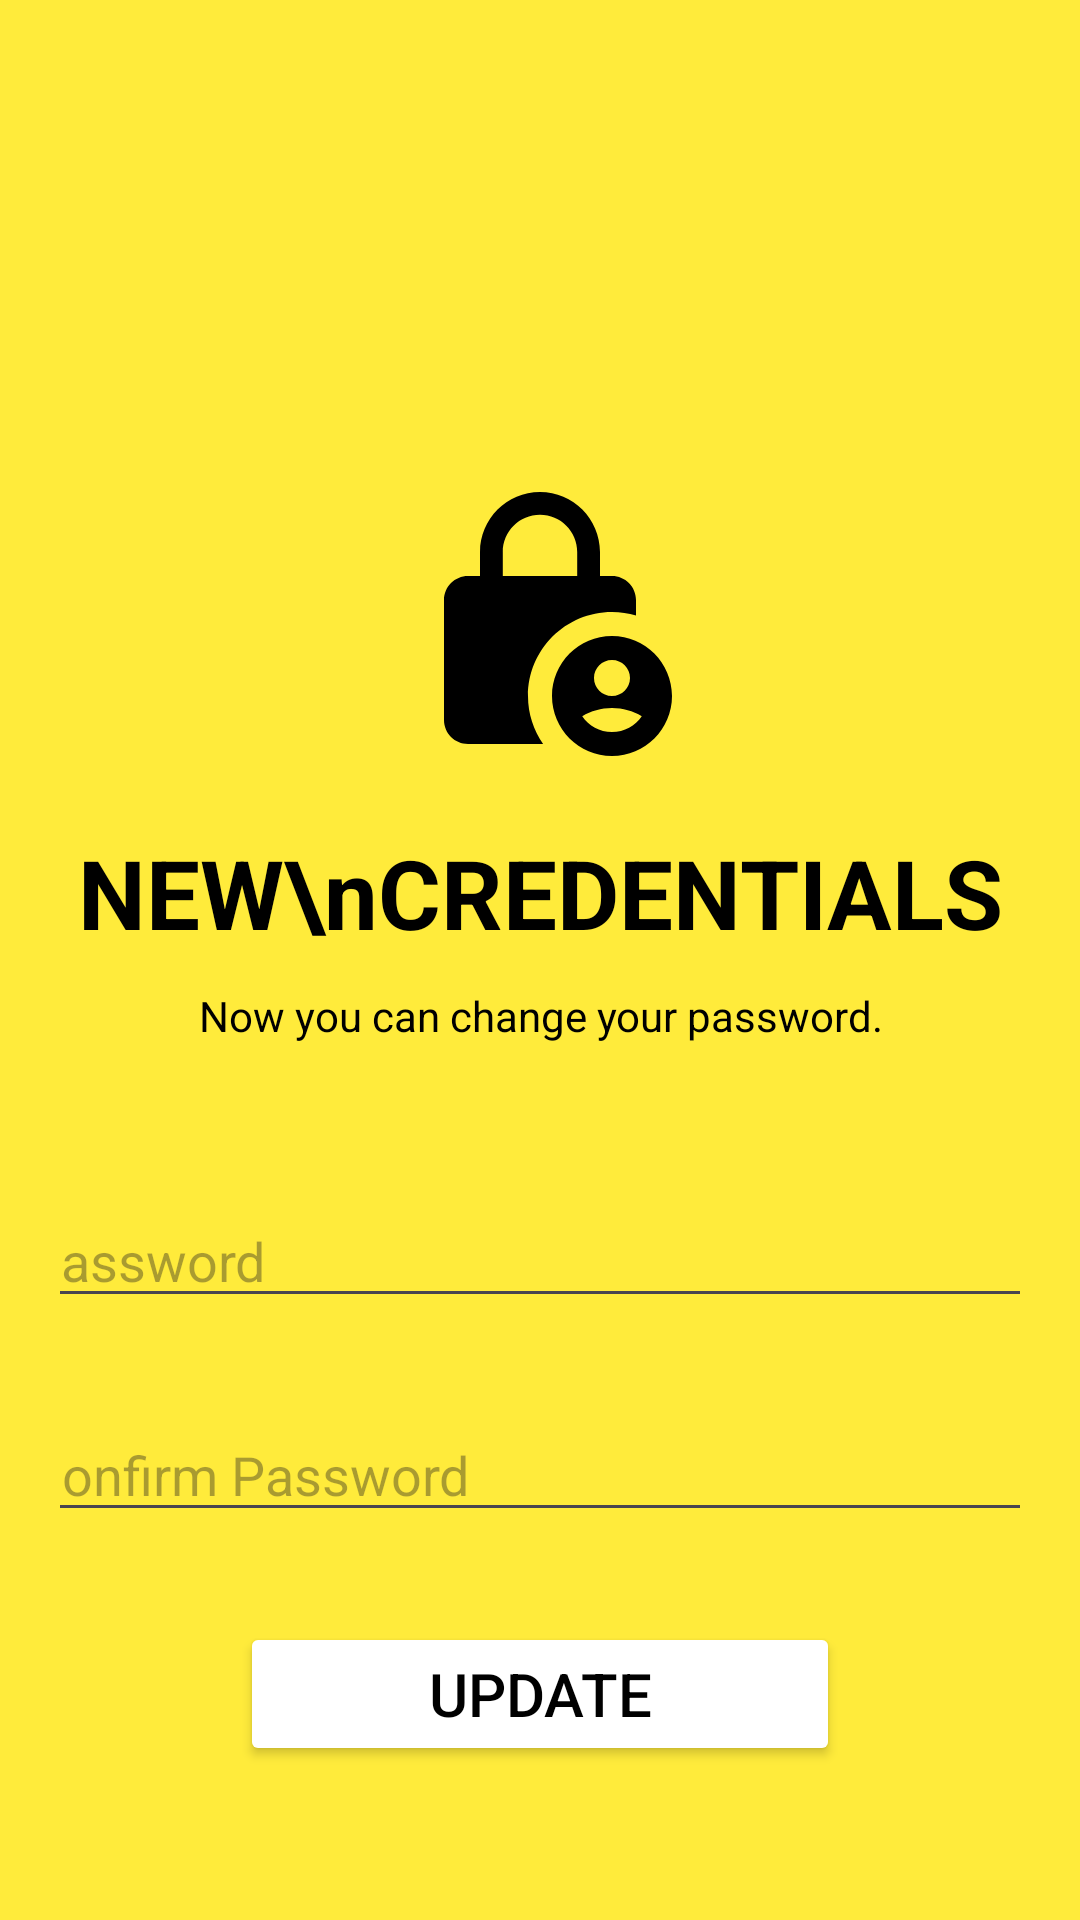

Locate icon controls on the screen. Image size 1080px x 1920px, boxes as (x1, y1, x2, y2).
lock person: (444, 492, 672, 756)
